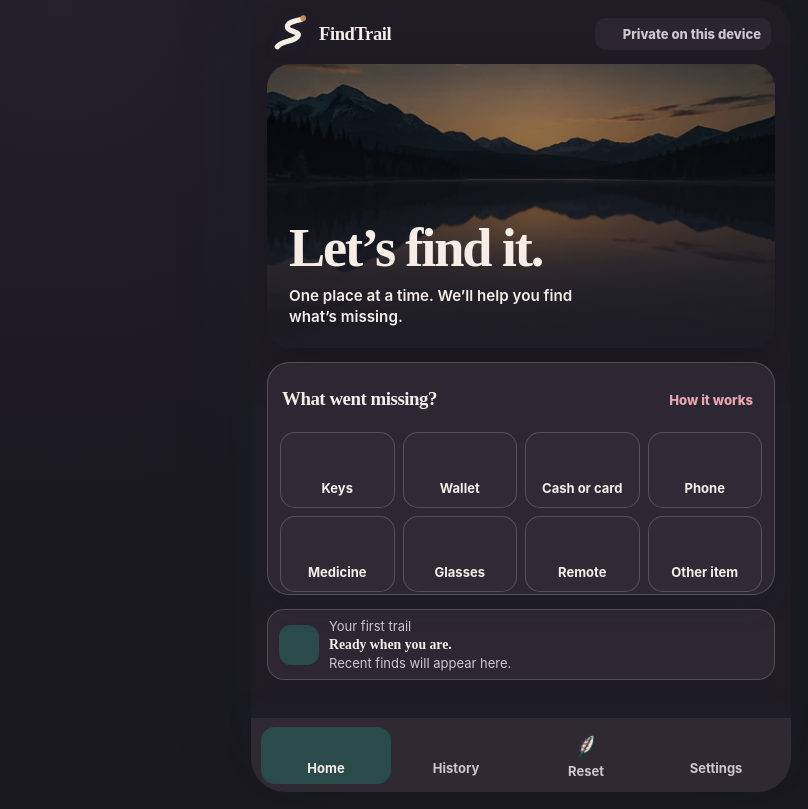
Test: FindTrail app › skips clue handoff delays when reduced motion is enabled
Click the button "Keys" at (337,470), box [280,432,394,508]
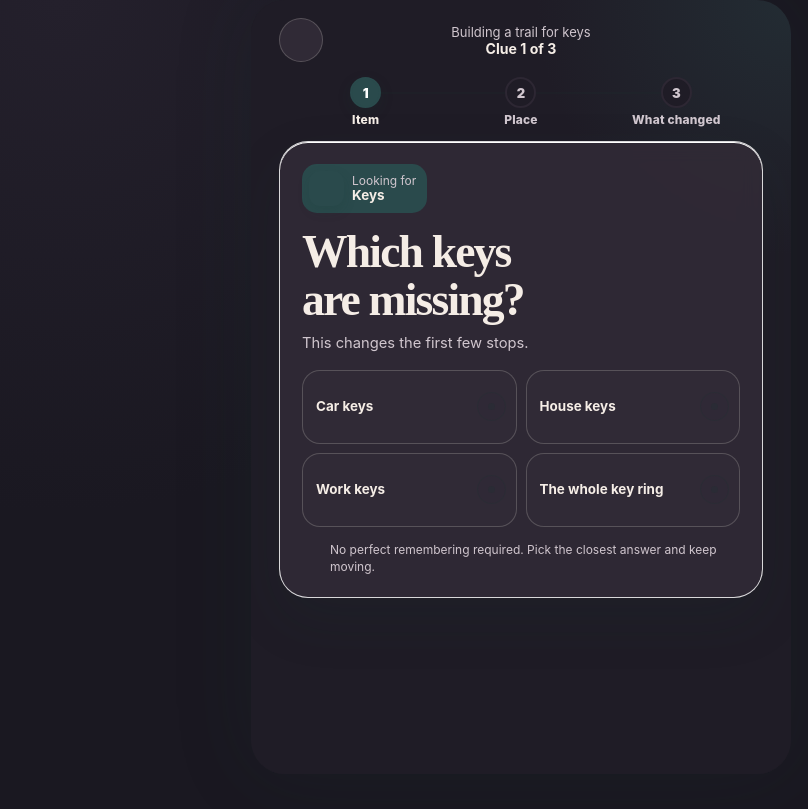
Click the button "Car keys" at (409,407), box [302,370,516,444]
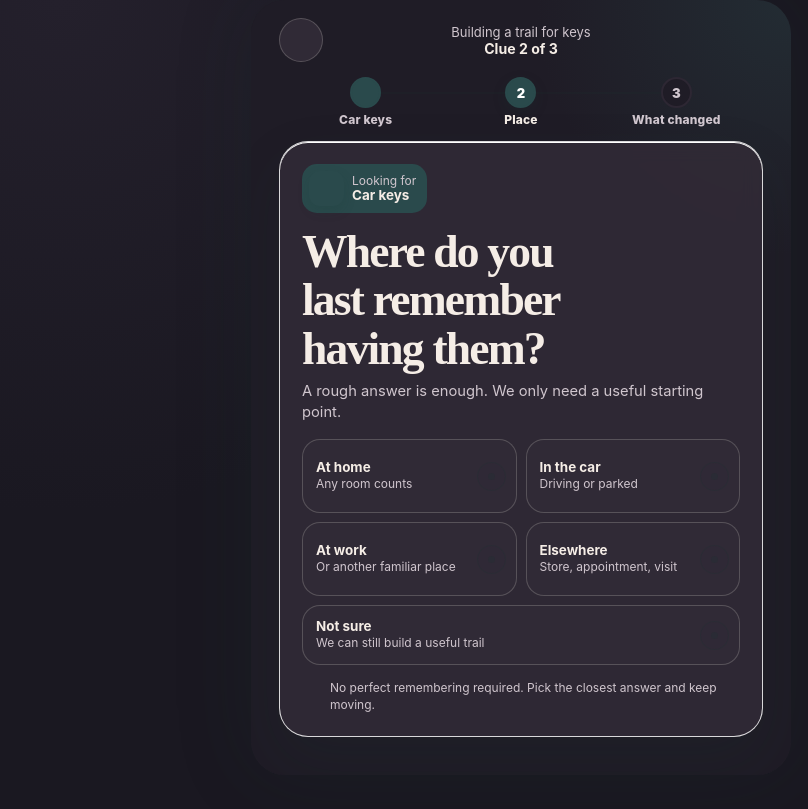
Now the text "At home" is shown, box [316,459,371,475]
